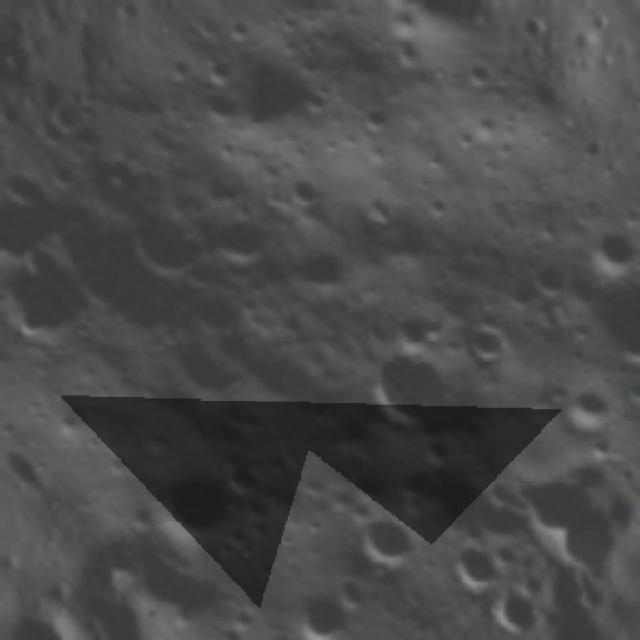crater: (28, 183, 203, 362), (346, 327, 466, 447), (488, 438, 608, 556), (117, 526, 240, 640), (133, 448, 249, 566), (0, 236, 102, 364), (114, 184, 220, 290), (223, 55, 328, 159), (156, 322, 258, 424), (340, 495, 426, 583), (578, 266, 640, 380), (198, 197, 282, 281), (429, 526, 511, 608), (0, 171, 62, 272), (282, 572, 368, 640), (210, 436, 282, 510), (553, 374, 624, 444), (452, 304, 522, 374), (288, 237, 358, 306), (0, 422, 65, 496), (324, 557, 390, 625), (586, 209, 640, 283), (382, 296, 444, 358), (447, 46, 502, 102), (273, 162, 327, 218), (36, 147, 90, 202), (194, 80, 246, 132), (522, 251, 572, 304), (352, 96, 396, 141)
